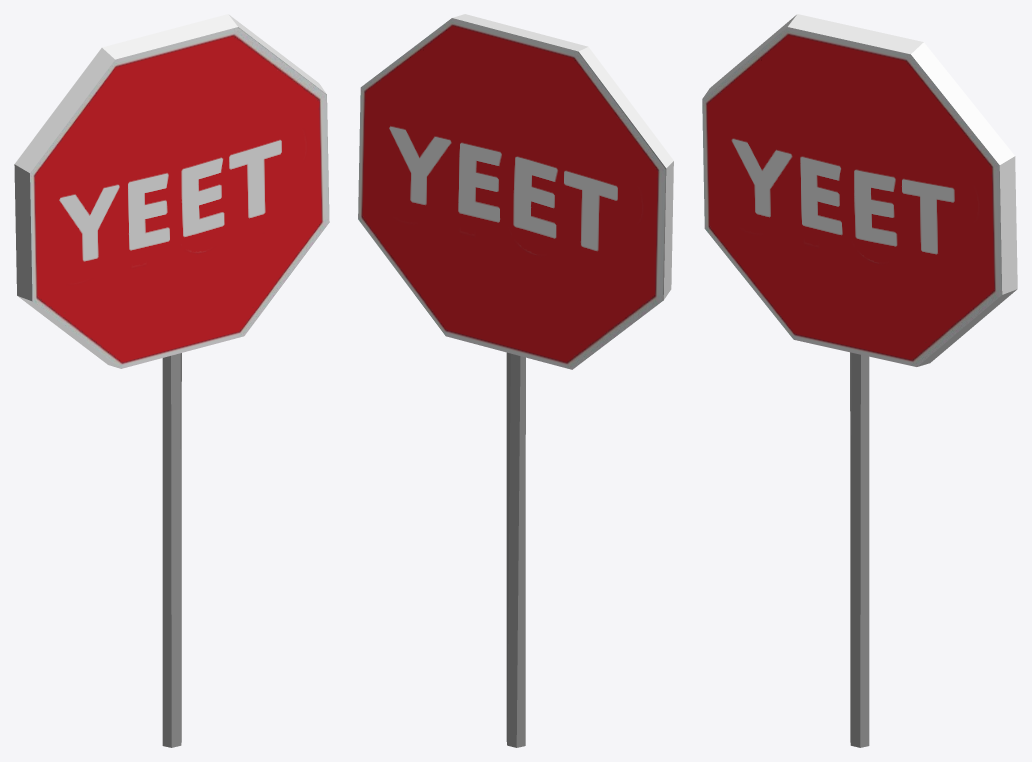
Rendered from sign.fbx.
The picture shows the model from 3 angles, left to right: view 1: azimuth 30°, elevation 25°; view 2: azimuth 150°, elevation 25°; view 3: azimuth 330°, elevation 25°; orthographic projection.
Parts seen in each view (by area): view 1: pCylinder2; view 2: pCylinder2; view 3: pCylinder2.
Boxes of the visible parts, box(x1,y1,x2,y2) form: pCylinder2: box(14, 14, 329, 747); pCylinder2: box(358, 14, 673, 747); pCylinder2: box(702, 14, 1017, 747).
Bounding box in the file's own units: 3.32 × 7.35 × 0.2203.
2 materials, 1 textured.
